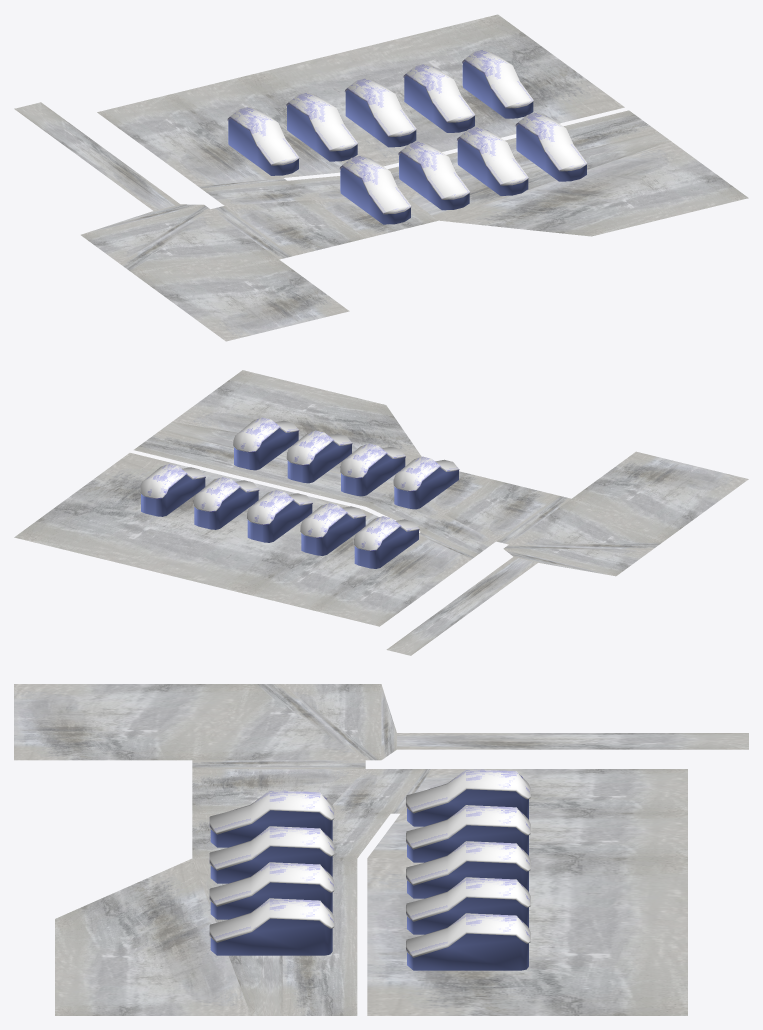
The model's file is kp_parkingslot.glb.
3 renders of one model, top to bottom at view 1: azimuth 30°, elevation 25°; view 2: azimuth 150°, elevation 25°; view 3: azimuth 270°, elevation 25°, orthographic. The views are drawn at different scales.
Visible parts, largest first — view 1: kp_parkingslot, car-col, car-col.001; view 2: kp_parkingslot, car-col, car-col.001; view 3: kp_parkingslot, car-col, car-col.001.
Part boxes in pixels (x1,y1,x2,y2): kp_parkingslot: (14,14,748,341); car-col: (227,49,533,175); car-col.001: (339,112,587,224); kp_parkingslot: (14,370,748,655); car-col: (140,464,419,568); car-col.001: (233,417,459,509); kp_parkingslot: (14,684,748,1015); car-col: (406,769,530,970); car-col.001: (209,790,334,955).
Bounding box in the file's own units: 24.62 × 1.67 × 23.05.
3 materials, 2 textured.
